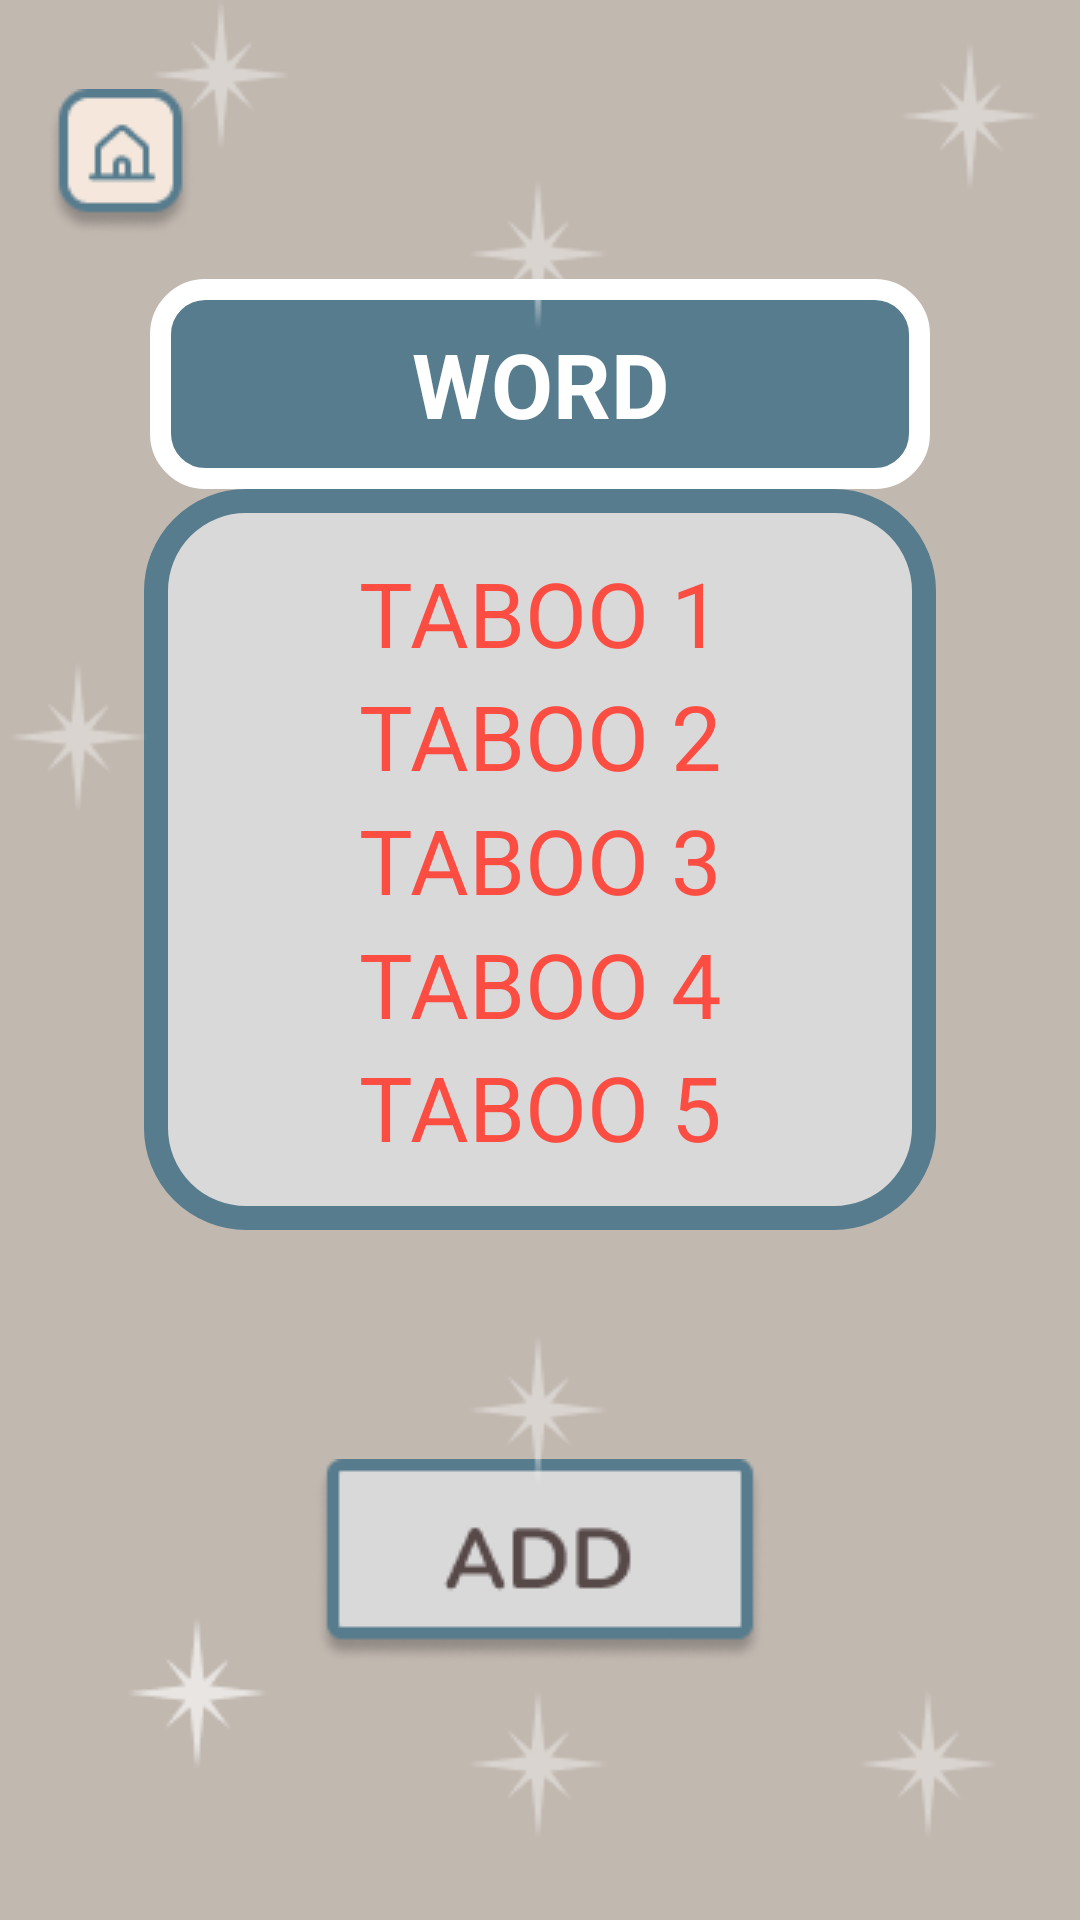

Named icons in this screenshot (1080px×1920px) and their centers, [x,y]:
home: [120,156]
